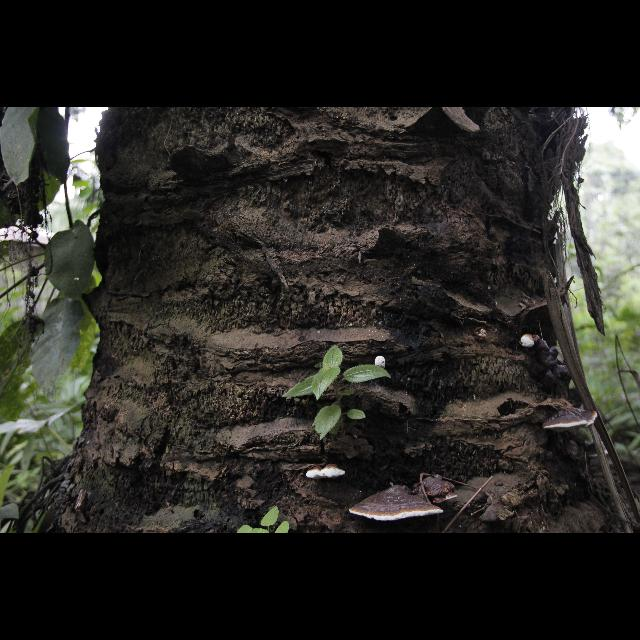ganoderma: (350, 487, 445, 524), (537, 336, 573, 391), (544, 409, 600, 433), (413, 476, 459, 505), (307, 465, 347, 481)
primordium: (520, 335, 536, 349), (375, 356, 387, 370)
